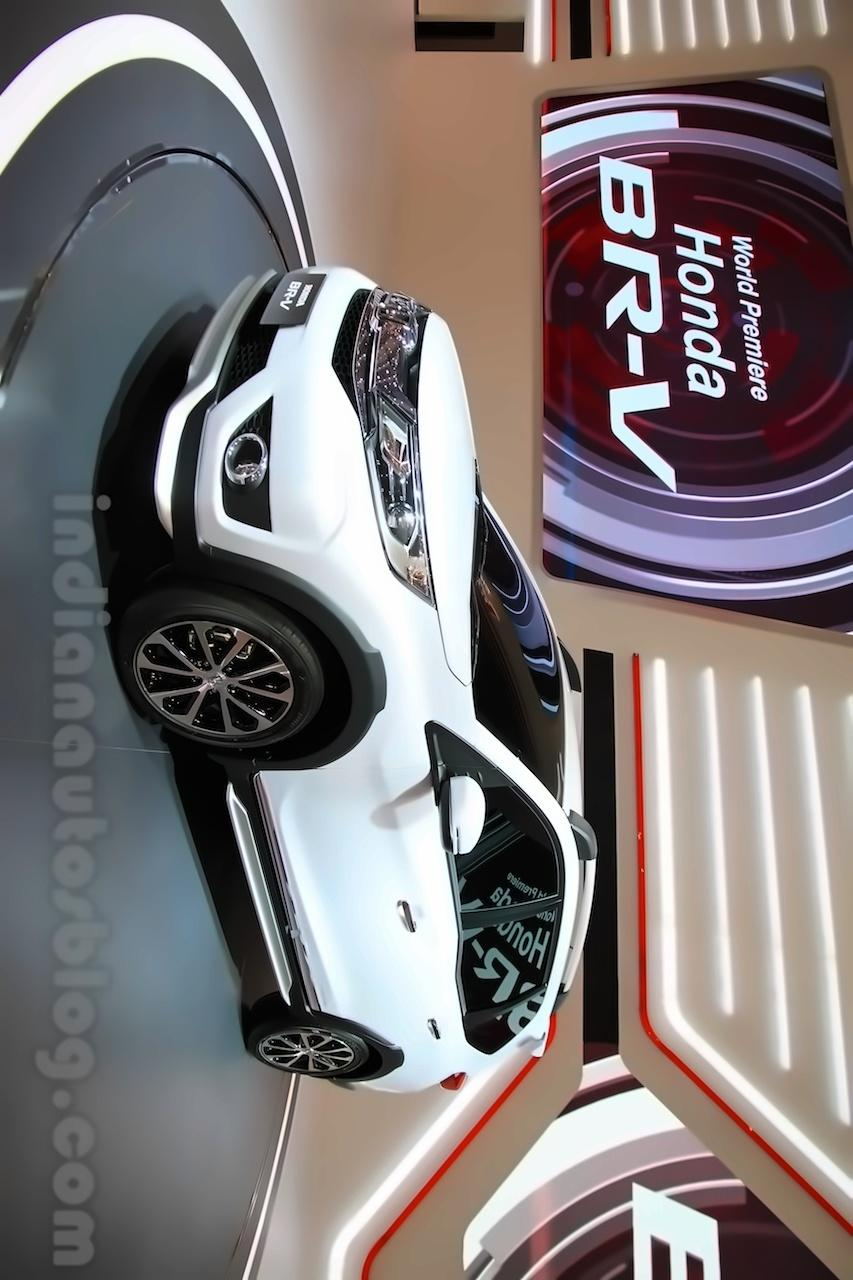Car hood: (422, 314, 492, 693)
Fender - -F-L-: (221, 596, 452, 805)
Front bumper: (131, 262, 388, 639)
Headlight - -L-: (362, 398, 436, 609)
Passenger-s door - -F-L-: (186, 735, 613, 952)
Passenger-s door - -R-L-: (248, 894, 622, 1075)
Side bumper - -L-: (188, 746, 330, 1022)
Side mirror - -L-: (416, 736, 492, 865)
